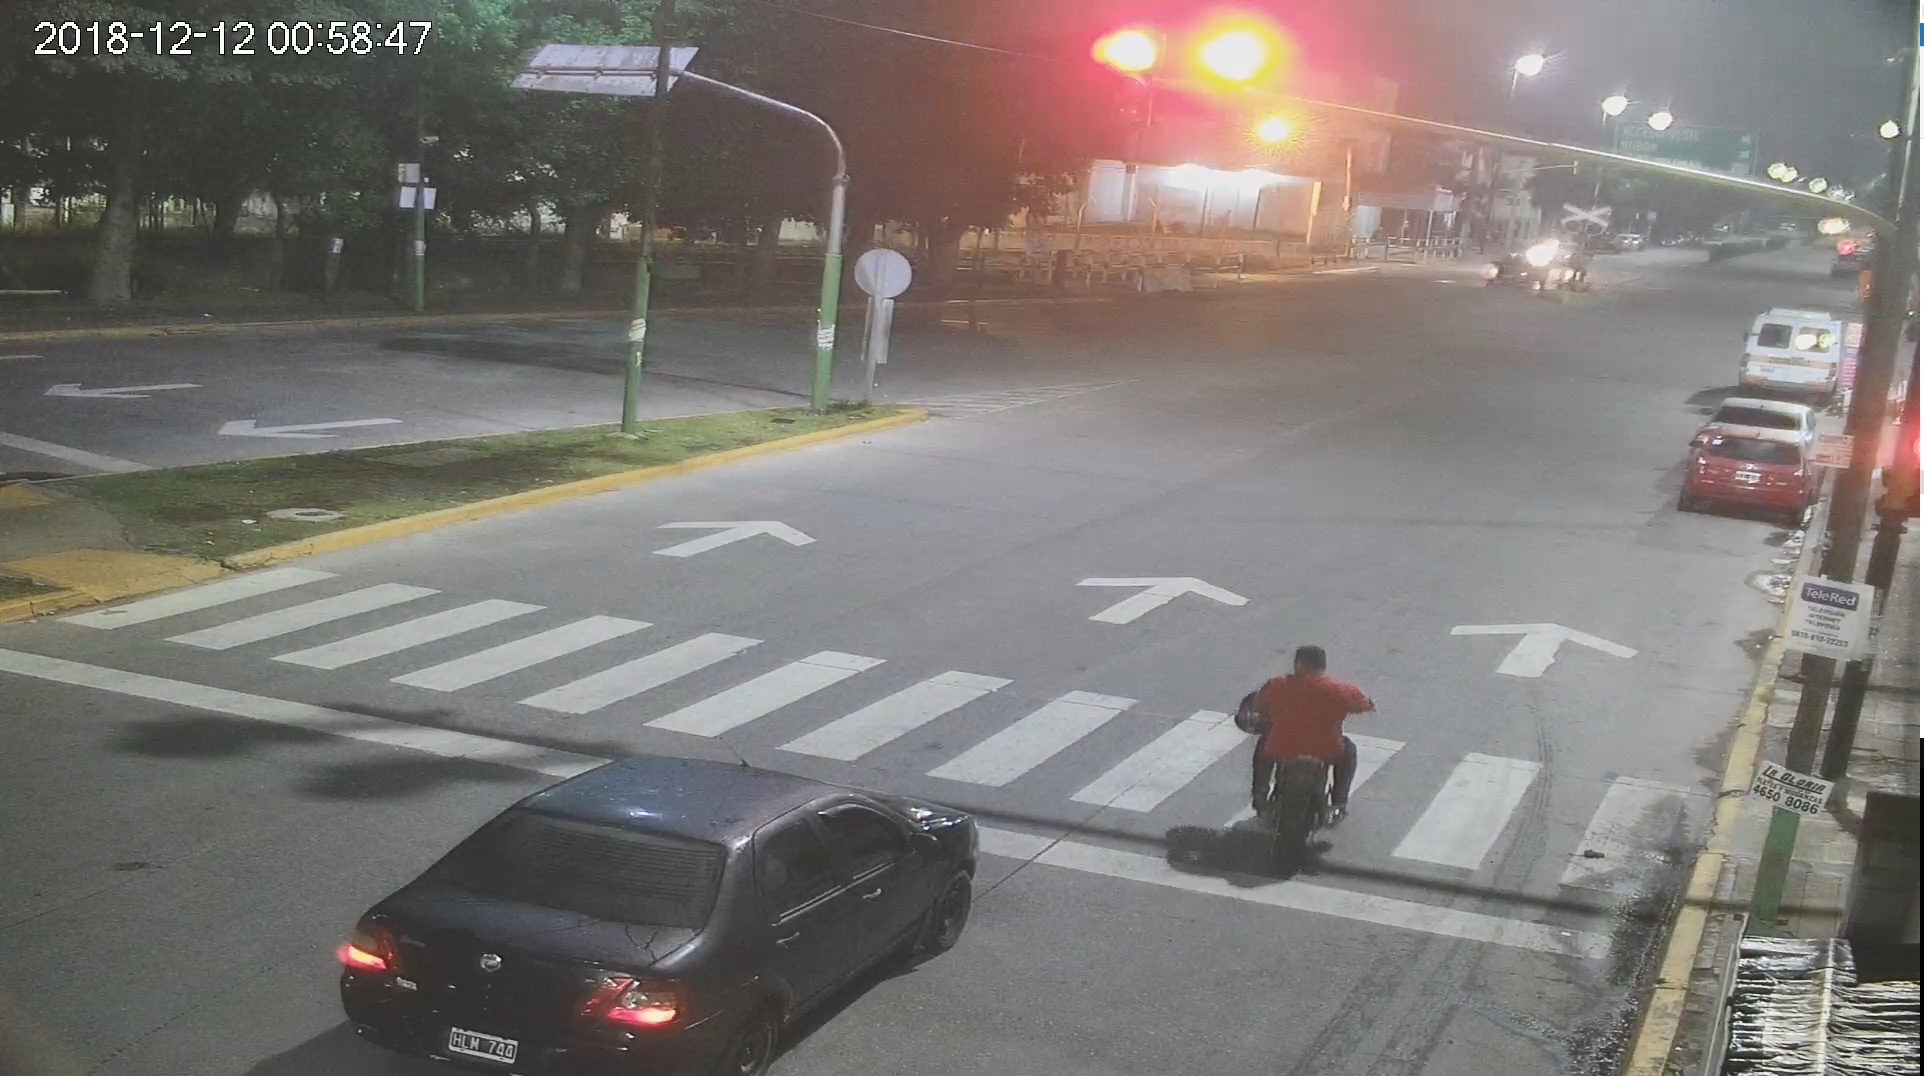car: (322, 734, 1017, 1076), (1661, 414, 1831, 533)
motorcycle: (1202, 625, 1402, 886)
